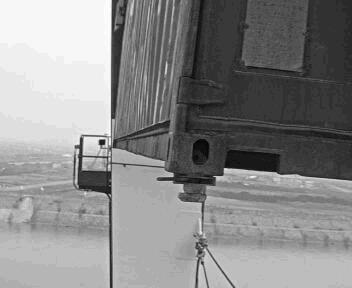twist_lock_1: (164, 169, 225, 211)
